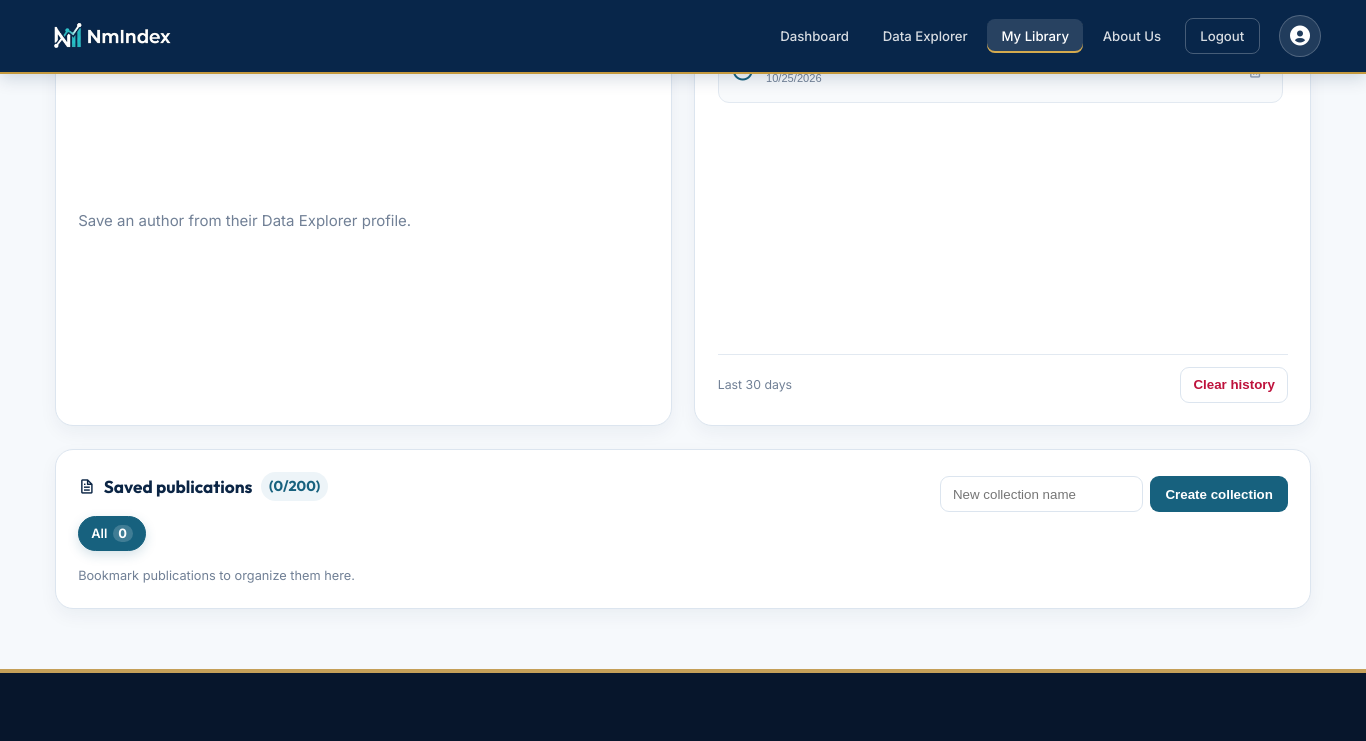
clear history asks first, then empties the list
The width and height of the screenshot is (1366, 741).
(page scrolled)
What coordinates should you click on to do the following:
click the button "Clear history"
I would click on:
 (1234, 385)
Its box is x1=1180 y1=367 x2=1288 y2=403.
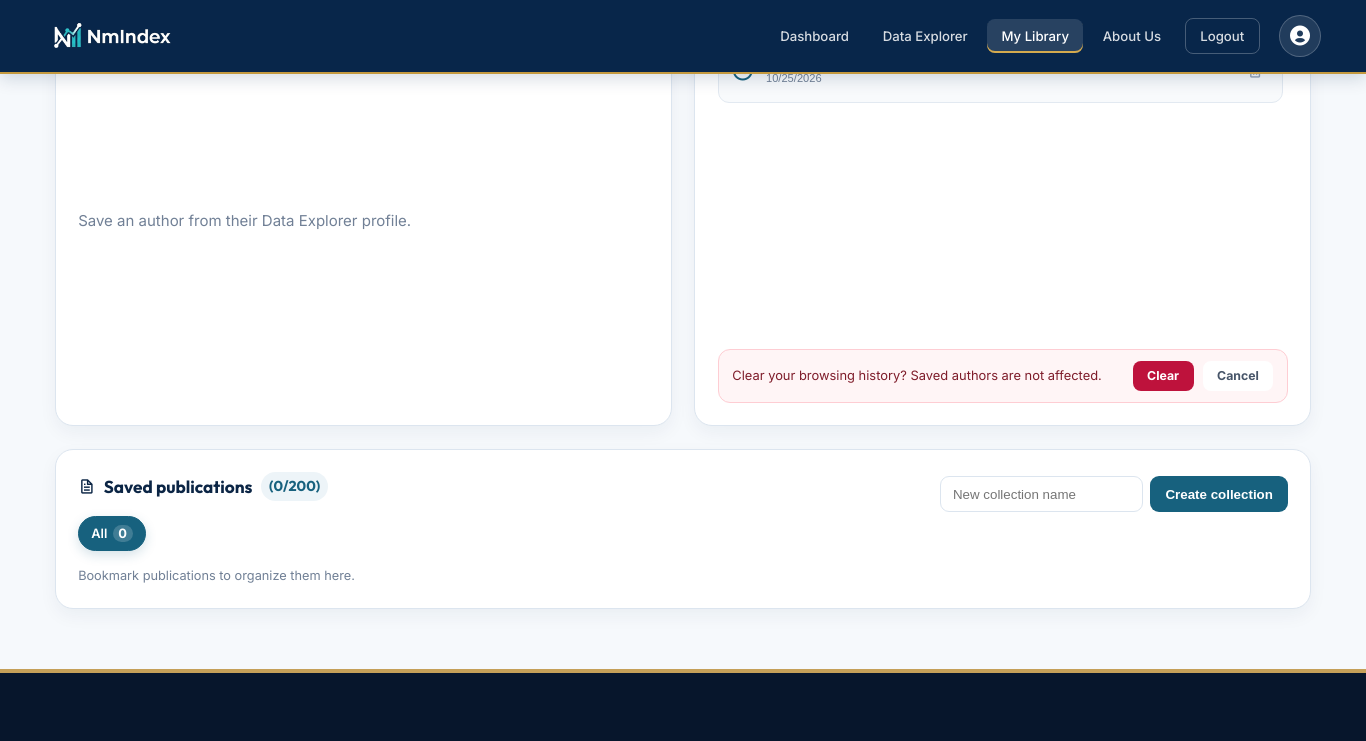
Result: the text "Clear your browsing history? Saved authors are not affected." is shown at x1=732 y1=366 x2=1124 y2=386
What coordinates should you click on to do the following:
click the button "Cancel"
I would click on:
 (1238, 376)
Its box is x1=1203 y1=361 x2=1273 y2=391.
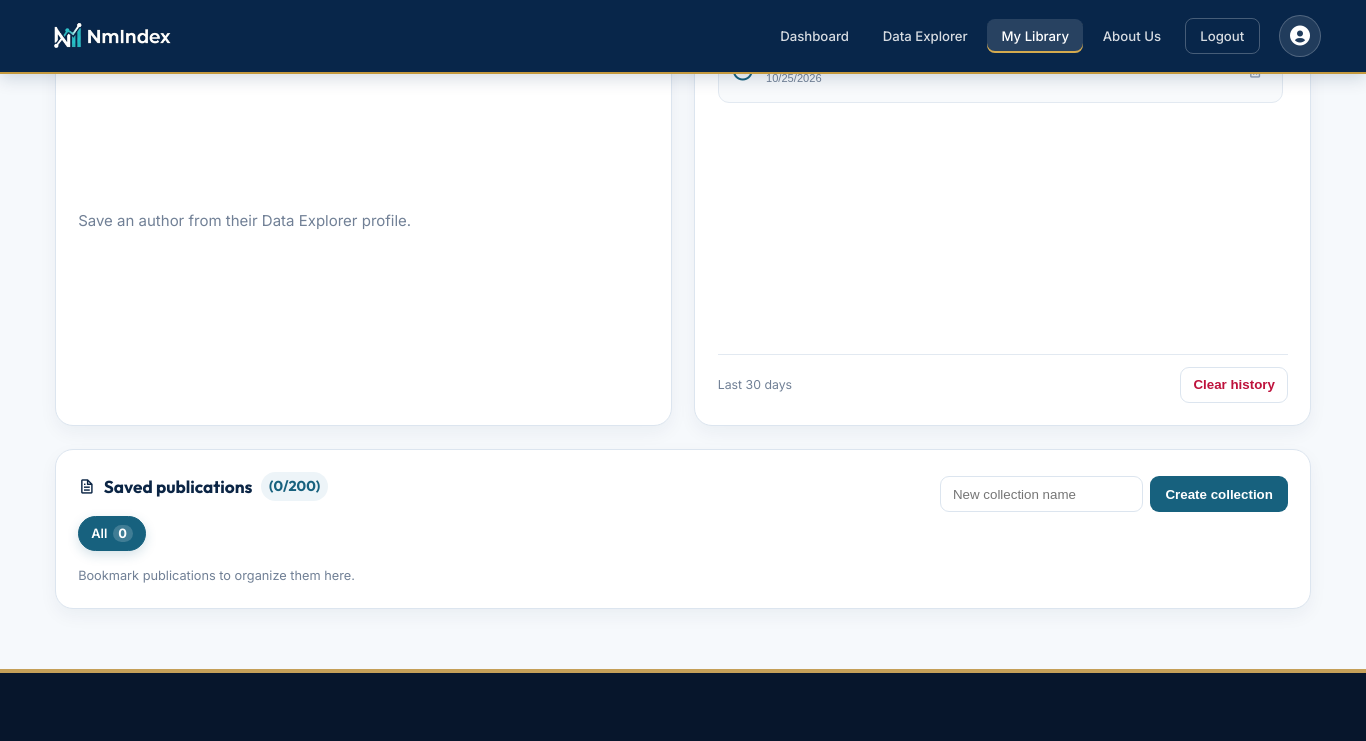
Expected: the text "Author 1" is shown, x1=766 y1=57 x2=821 y2=72
What coordinates should you click on to do the following:
click the button "Clear history"
I would click on:
 (1234, 385)
Its box is x1=1180 y1=367 x2=1288 y2=403.
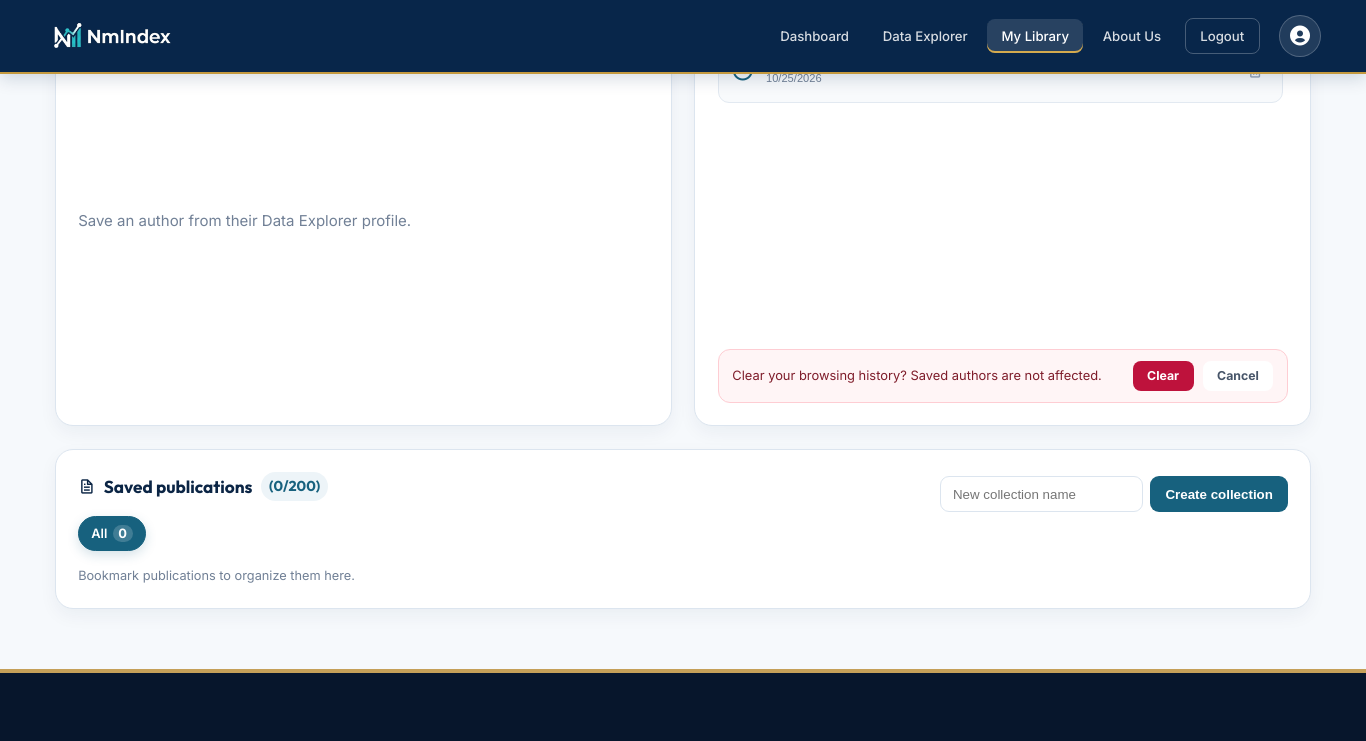
What coordinates should you click on to do the following:
click the button "Clear"
I would click on:
 (1163, 376)
Its box is x1=1132 y1=361 x2=1194 y2=391.
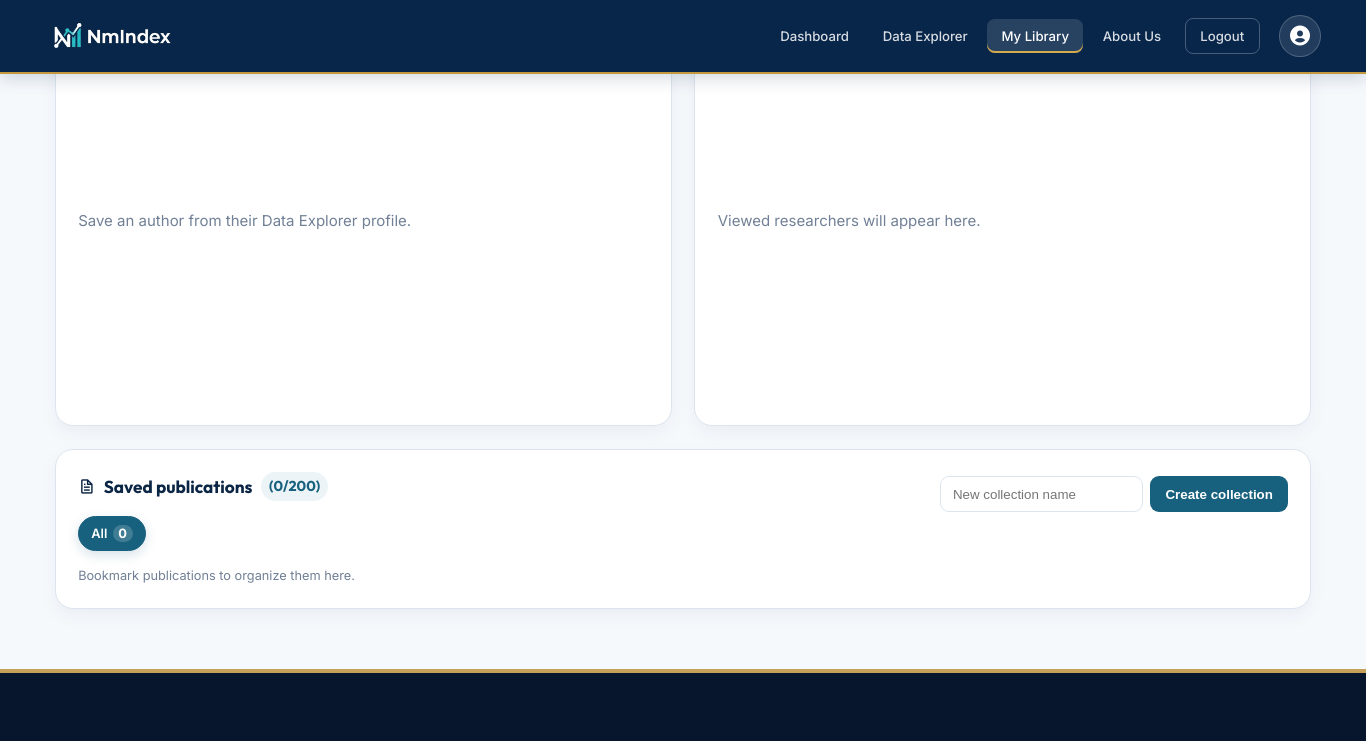
Expected: the button "Author 1" is not shown
Result: the text "Viewed researchers will appear here." is shown at x1=718 y1=211 x2=981 y2=230
